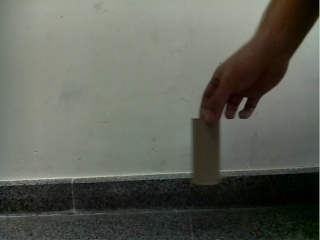rollo papel: (190, 118, 221, 185)
